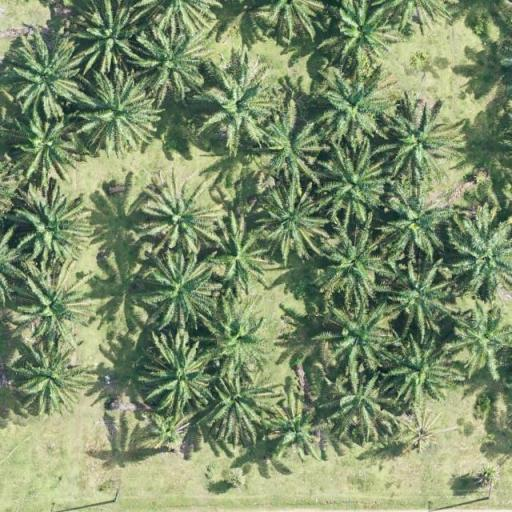Ganoderma: (152, 418, 186, 450), (407, 417, 440, 448)
